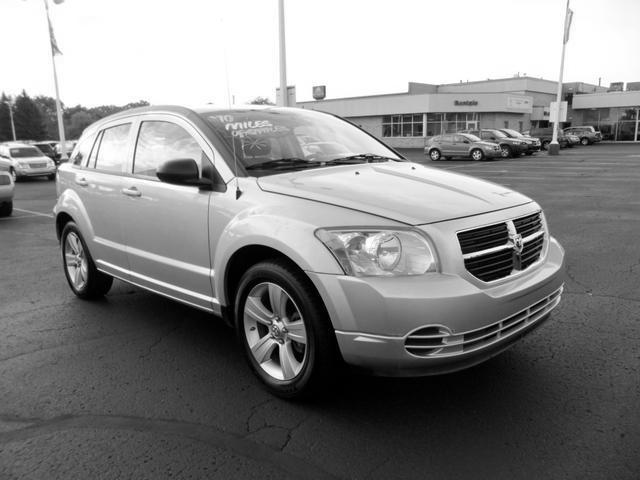car: (50, 103, 569, 403)
